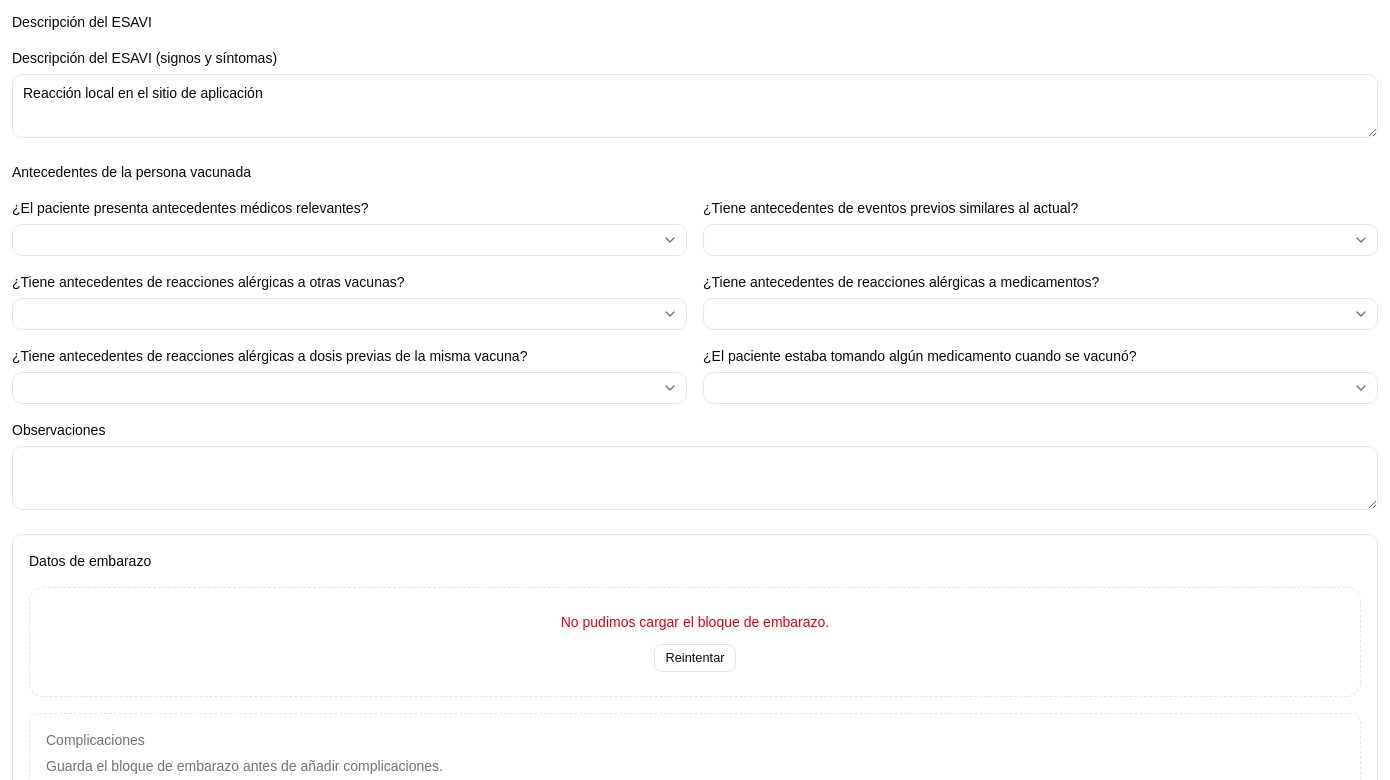
Test: NotificationStep — el GET del bloque de embarazo falla (SPEC FE12d §4 paso 14) › muestra un banner de error con reintento, en vez de pintar el bloque vacío en silencio
The image size is (1390, 780).
Expected: the text box labelled "Descripción del ESAVI (signos y síntomas)" is shown, [12,74,1378,138]
Expected: the text "No pudimos cargar el bloque de embarazo." is shown, [561,612,829,632]
Click the button "Reintentar": (695, 658) [654,644,736,672]
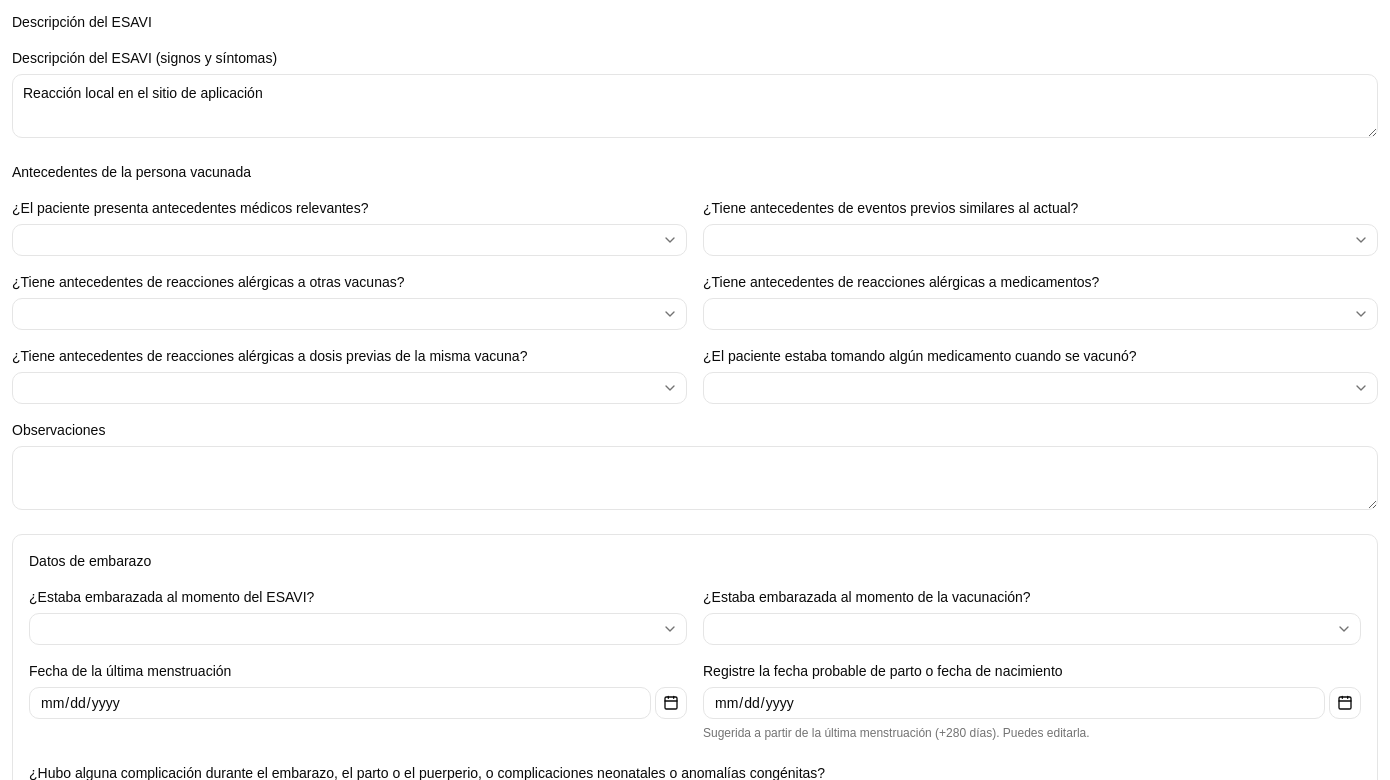
Result: the text "No pudimos cargar el bloque de embarazo." is gone
Result: the dropdown named "¿Estaba embarazada al momento de la vacunación?" is shown at [703,613,1361,645]
